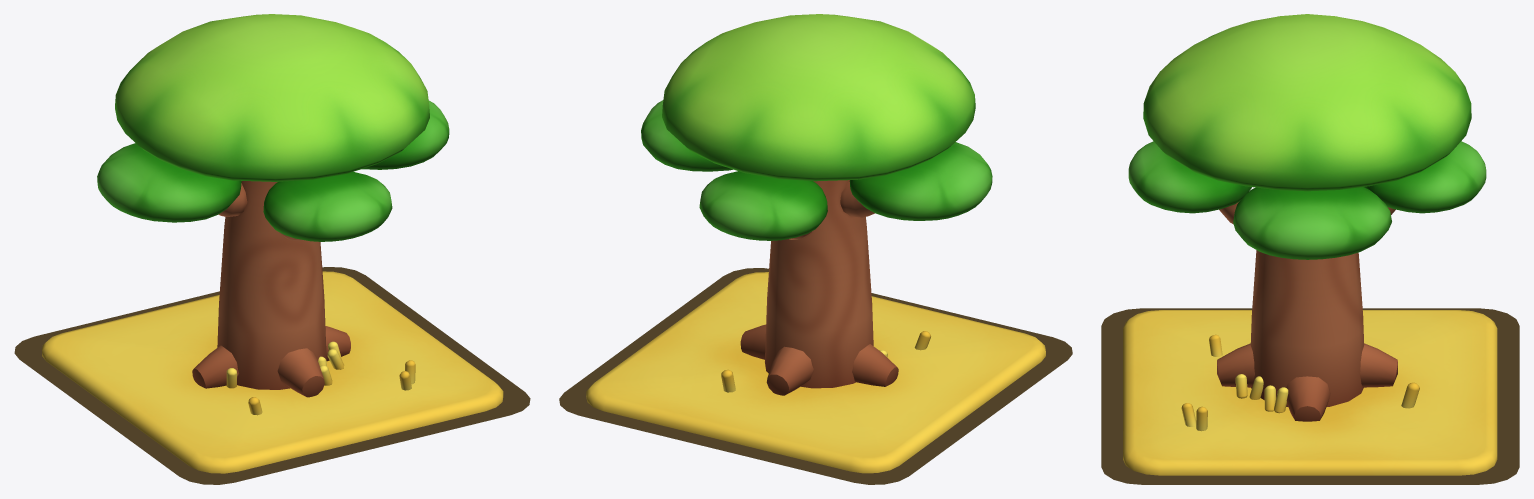
The model's file is Mu_Tree.fbx.
3 views of the same model, side by side, from view 1: azimuth 30°, elevation 25°; view 2: azimuth 150°, elevation 25°; view 3: azimuth 270°, elevation 25° (orthographic). The views are drawn at different scales.
Parts seen in each view (by area): view 1: Mu_Tree_a, Mu_Tree_c, Mu_Tree_b, Mu_Tree_shadow; view 2: Mu_Tree_a, Mu_Tree_c, Mu_Tree_b, Mu_Tree_shadow; view 3: Mu_Tree_a, Mu_Tree_c, Mu_Tree_b, Mu_Tree_shadow.
Part boxes in pixels (<box>): Mu_Tree_a: <box>97,14,449,241</box>; Mu_Tree_c: <box>42,271,503,473</box>; Mu_Tree_b: <box>192,181,350,397</box>; Mu_Tree_shadow: <box>14,267,530,484</box>; Mu_Tree_a: <box>641,14,992,240</box>; Mu_Tree_c: <box>586,272,1045,473</box>; Mu_Tree_b: <box>740,180,898,395</box>; Mu_Tree_shadow: <box>559,268,1072,484</box>; Mu_Tree_a: <box>1128,14,1486,259</box>; Mu_Tree_c: <box>1123,310,1497,475</box>; Mu_Tree_b: <box>1217,202,1397,421</box>; Mu_Tree_shadow: <box>1101,308,1519,484</box>.
Bounding box in the file's own units: 337 × 319 × 337.
Materials: 2 (1 with a texture image).
